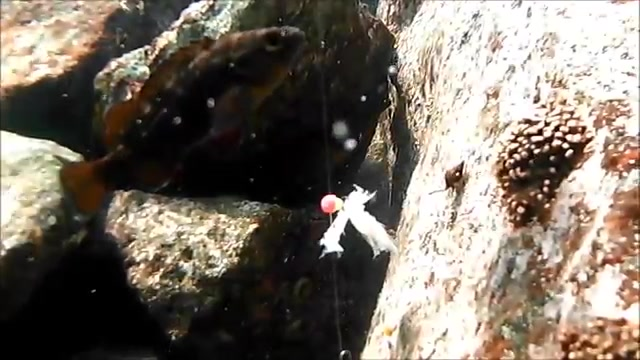mebaru: (54, 16, 308, 211)
